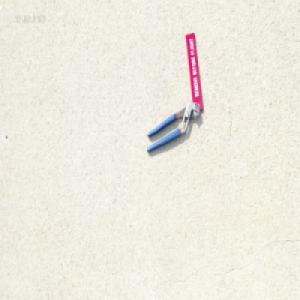Label: (184, 34, 202, 111)
Pliers: (145, 102, 199, 153)
